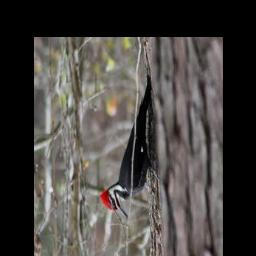Woodpecker: (97, 69, 160, 219)
